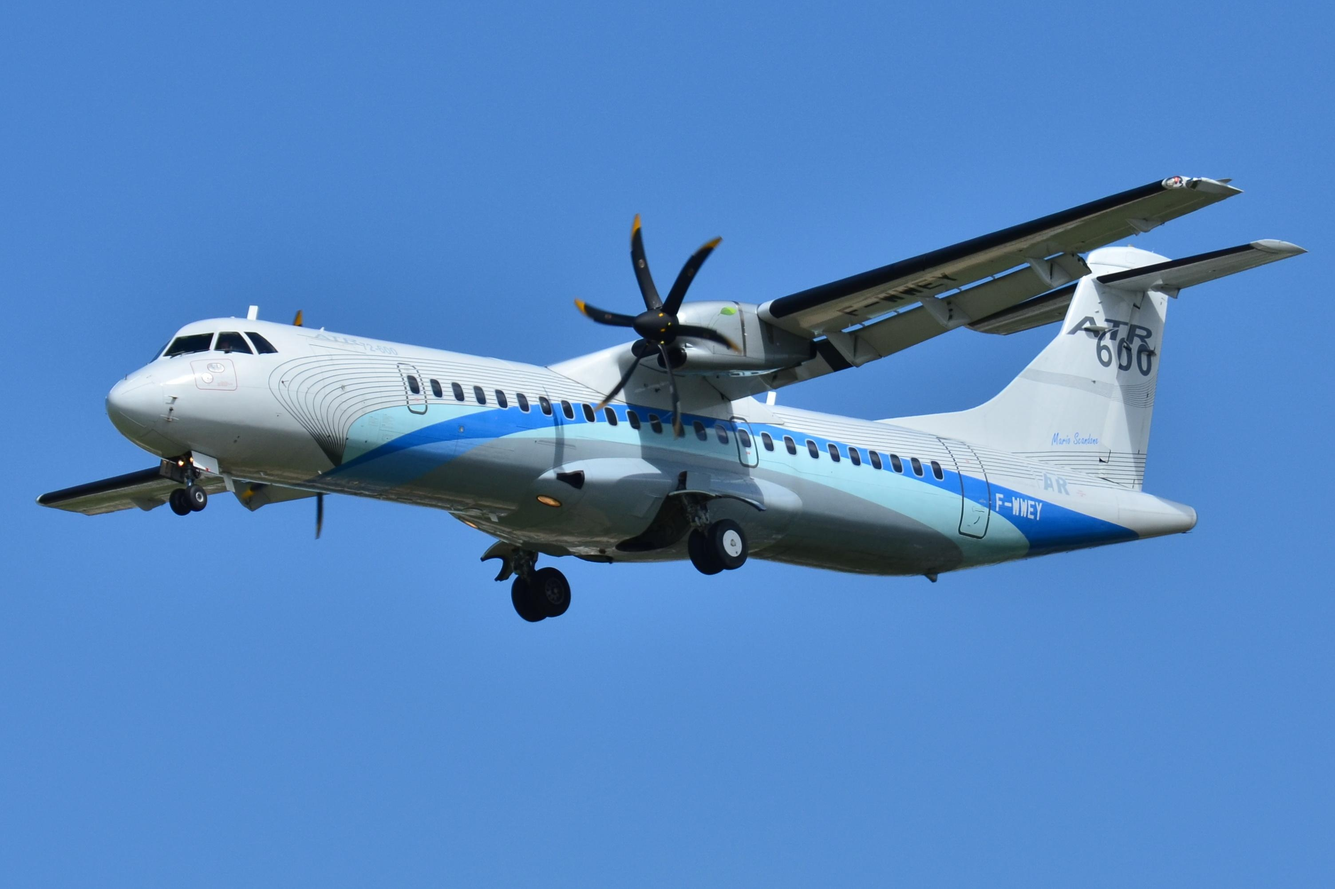aircraft: (59, 166, 1301, 635)
